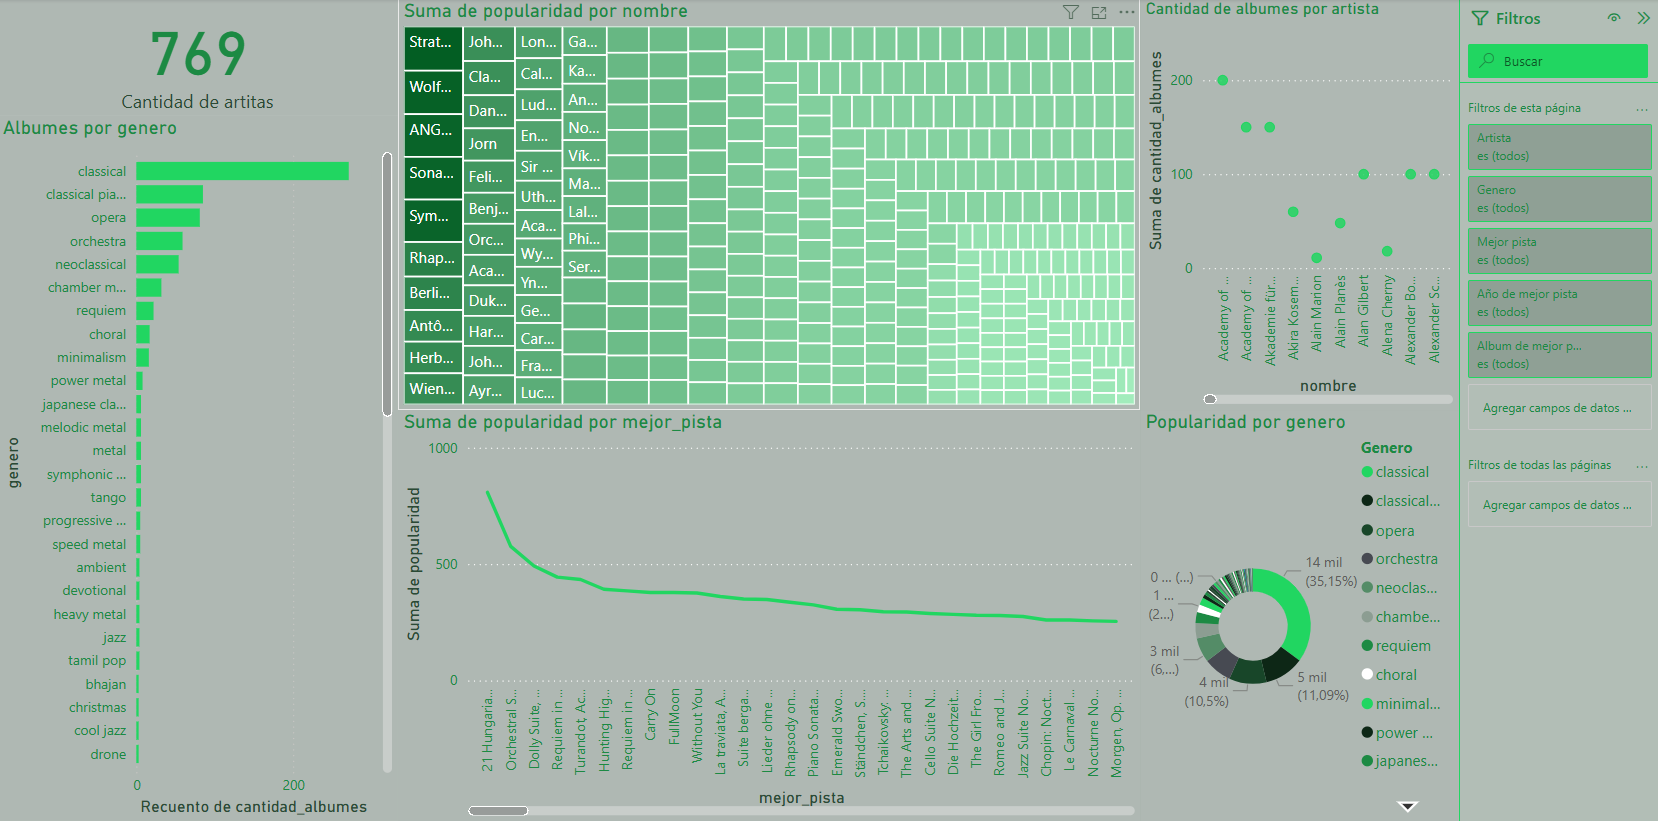

Layout of this report page (visuals, bound fields, positions):
{"tool":"powerbi","page":{"name":"Classical","canvas":[1280,720],"ordinal":1},"visuals":[{"type":"clusteredBarChart","title":"Albumes por genero","fields":{"Category":["classical_todo.genero"],"Y":["classical_todo.cantidad_albumes"]},"box":[0,102.4,351,617.2],"z":0},{"type":"treemap","fields":{"Group":["classical_todo.nombre"],"Values":["classical_todo.popularidad"]},"box":[351.1,0,650,360],"z":1000},{"type":"lineChart","fields":{"Category":["classical_todo.mejor_pista"],"Y":["classical_todo.popularidad"]},"box":[351.1,359.8,650,359.8],"z":2000},{"type":"card","fields":{"Values":["classical_todo.nombre"]},"box":[0,0,351.1,102.4],"z":3000},{"type":"scatterChart","title":"Cantidad de albumes por artista","fields":{"X":["classical_todo.nombre"],"Y":["classical_todo.cantidad_albumes"]},"box":[1000.7,0,279.3,359.8],"z":4000},{"type":"donutChart","title":"Popularidad por genero","fields":{"Category":["classical_todo.genero"],"Y":["classical_todo.popularidad"]},"box":[1000.7,359.8,279.3,359.8],"z":5000}]}

Visuals, with their boxes on the page's 1280x720 design canvas (x1, y1, x2, y2). These are canvas units, not pixel positions in the 1658x821 screenshot, which may show the page scaled, cropped or inside an application window:
"Albumes por genero" clusteredBarChart: pyautogui.locateOnScreen(0, 102, 351, 720)
treemap - classical_todo.nombre x classical_todo.popularidad: pyautogui.locateOnScreen(351, 0, 1001, 360)
lineChart - classical_todo.mejor_pista x classical_todo.popularidad: pyautogui.locateOnScreen(351, 360, 1001, 720)
card - classical_todo.nombre: pyautogui.locateOnScreen(0, 0, 351, 102)
"Cantidad de albumes por artista" scatterChart: pyautogui.locateOnScreen(1001, 0, 1280, 360)
"Popularidad por genero" donutChart: pyautogui.locateOnScreen(1001, 360, 1280, 720)
